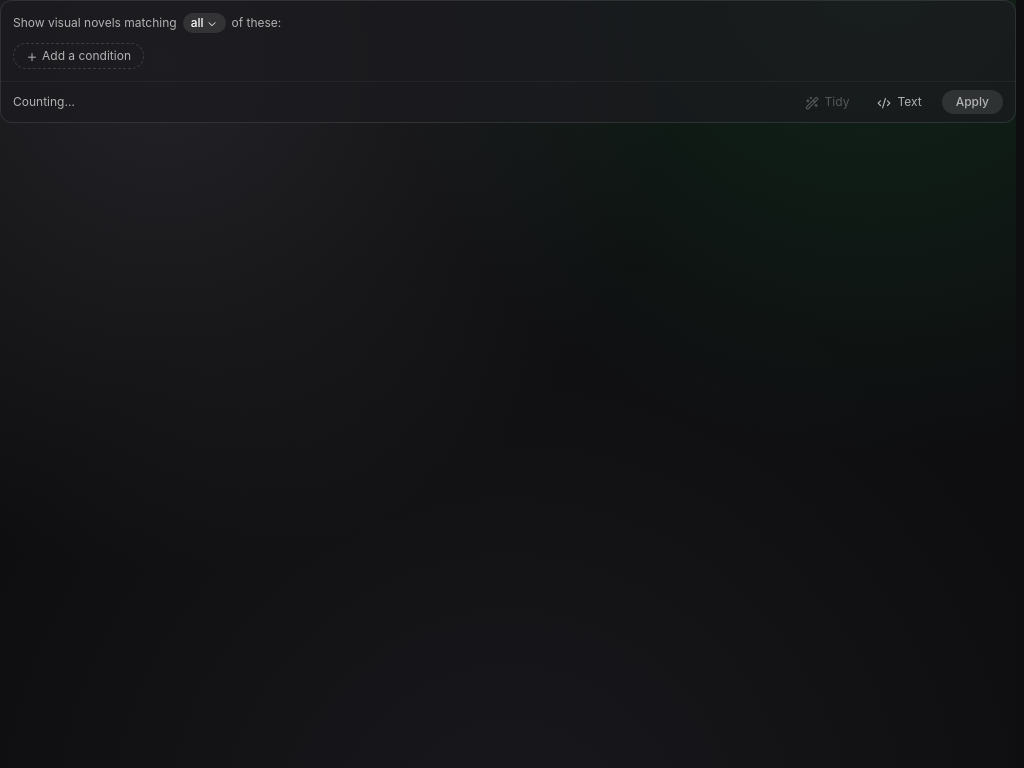
Test: ConditionBuilder › says what is wrong with text it cannot read, and will not apply it
The image size is (1024, 768).
Step 1. Click the button with aria-label "Edit as text" → {"x": 900, "y": 102}, box [865, 90, 934, 114]
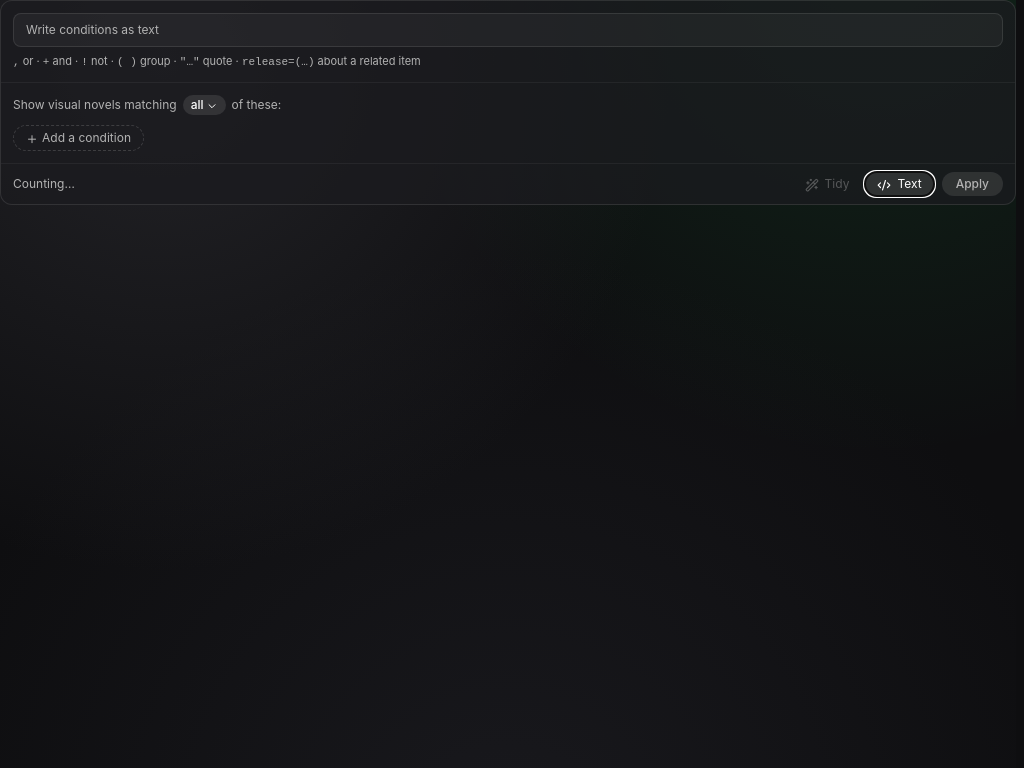
Step 2. Type "(olang=ja" into the text box labelled "conditions as text" → {"x": 508, "y": 30}, box [13, 13, 1003, 46]
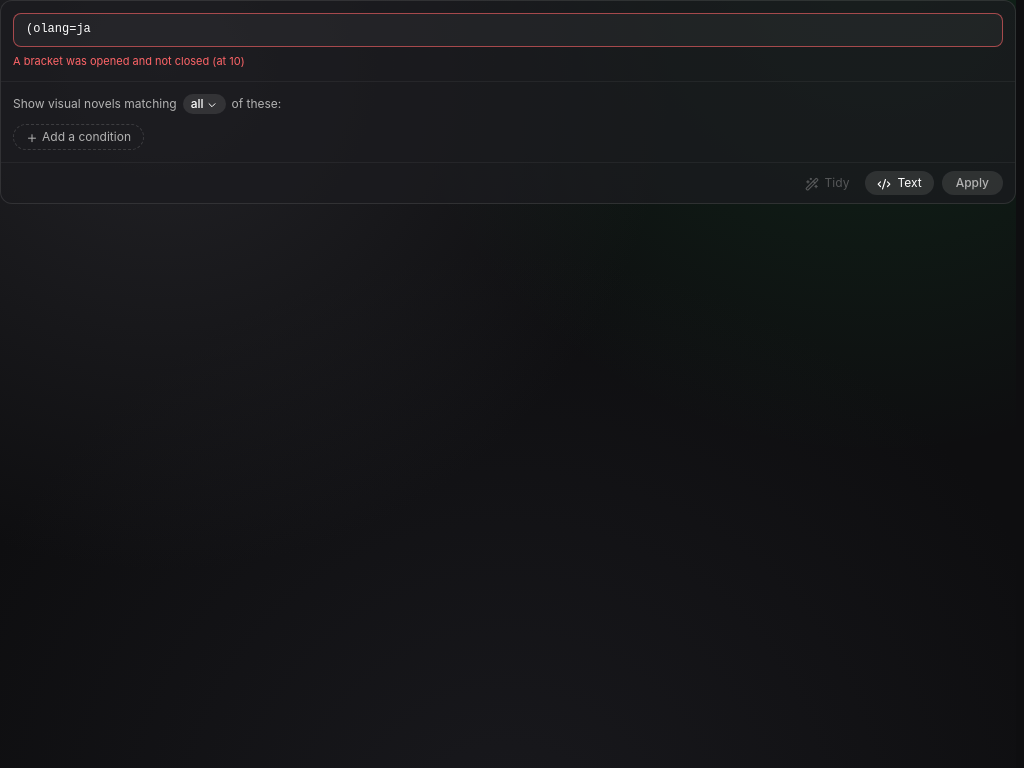
Expected: the button "Apply" is disabled, [942, 171, 1003, 195]
Expected: the message "A bracket was opened and not closed (at 10)" is shown, [13, 54, 245, 68]
